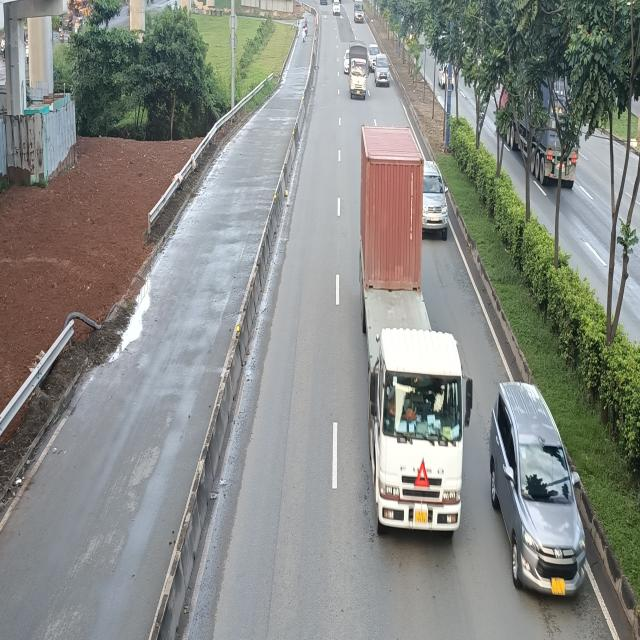car: (492, 378, 586, 596), (418, 160, 451, 240)
container: (360, 125, 476, 542)
truck: (348, 43, 368, 100)
